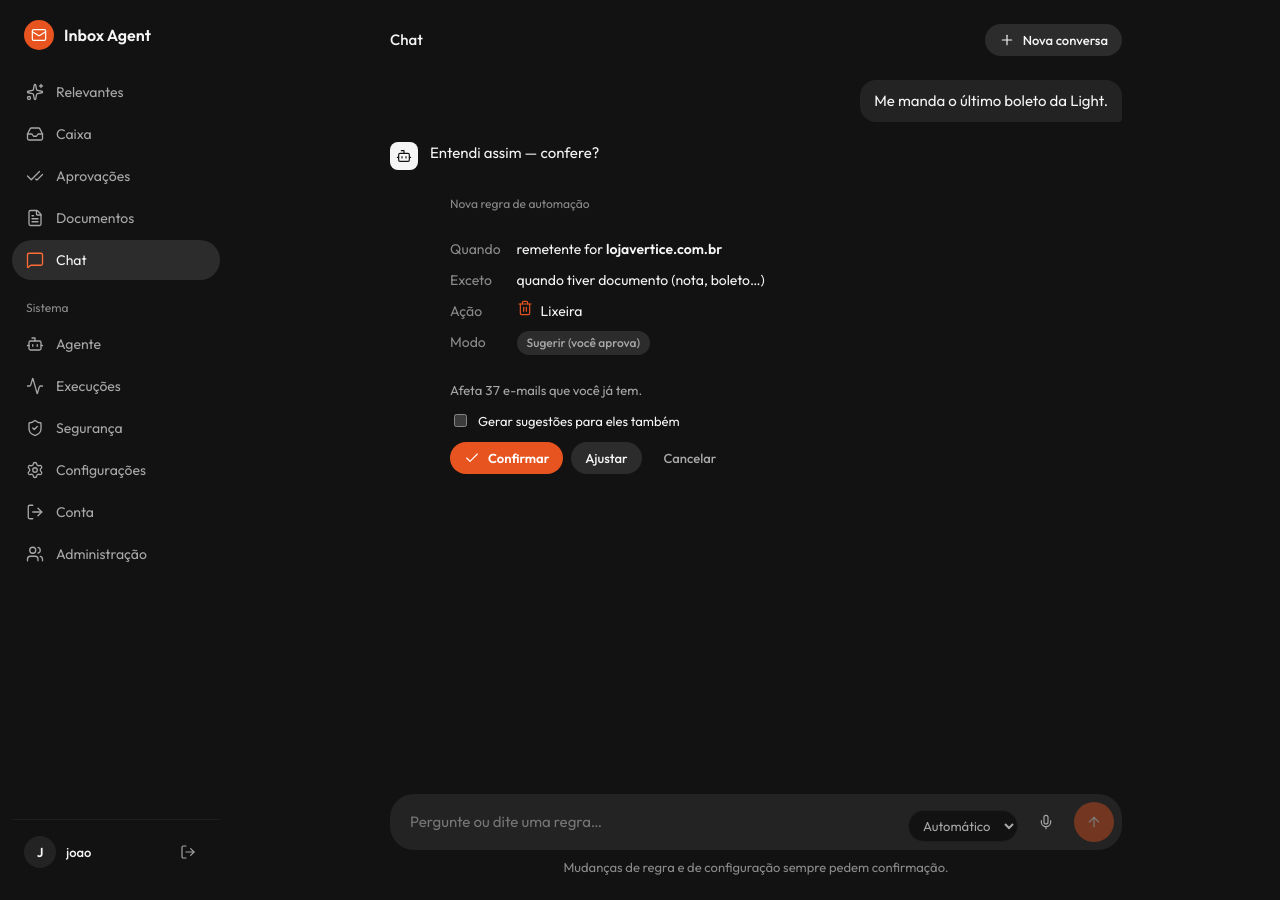
Test: rule_card_confirm_with_existing_suggestions
Expected: the text "lojavertice.com.br" is shown, [606,240,722,258]
Expected: the text "quando tiver documento (nota, boleto…)" is shown, [517,271,765,289]
Click the checkbox labelled "Gerar sugestões para eles também".
click(460, 420)  # box [454,414,467,427]
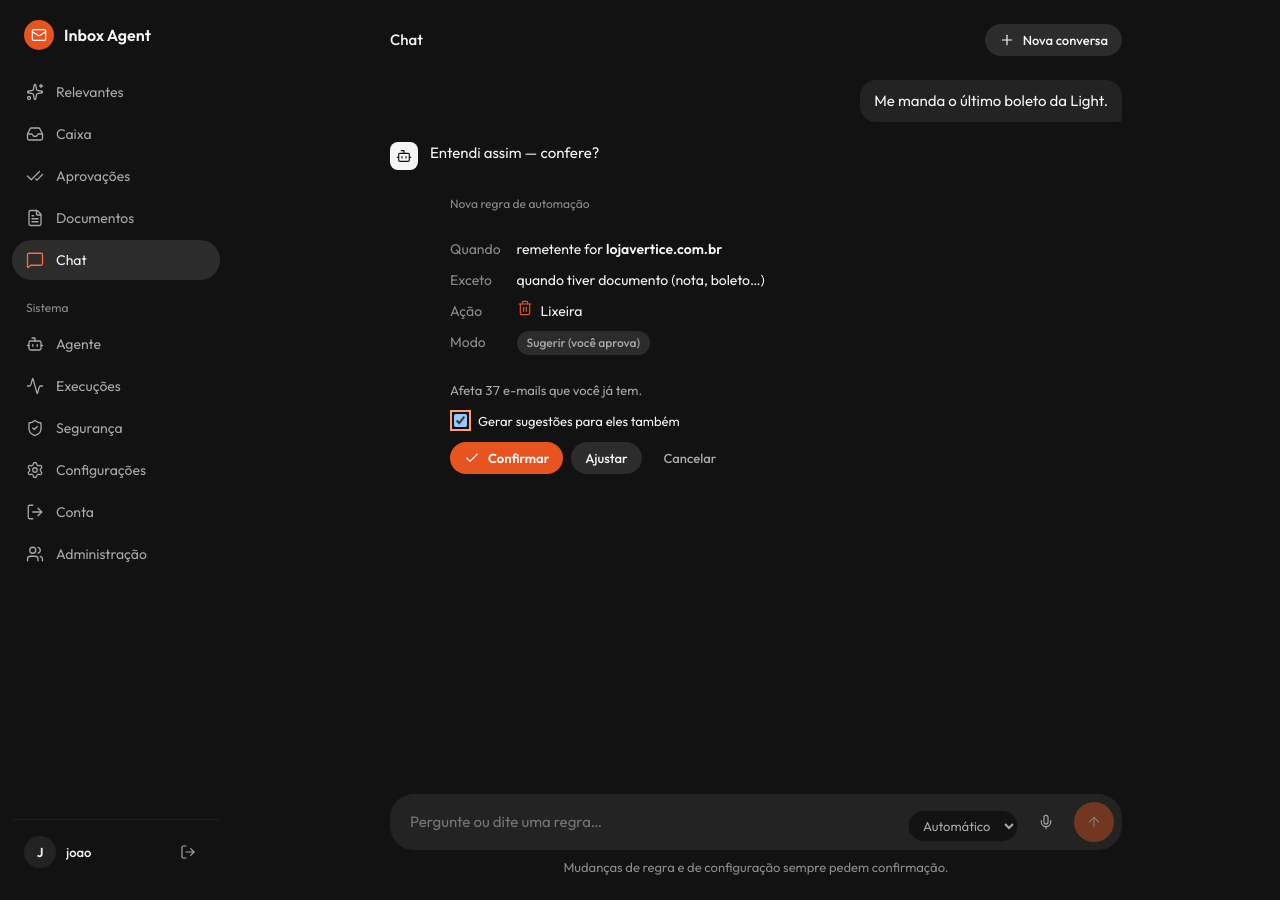
Click the button "Confirmar".
click(507, 458)  # box [450,442,563,474]
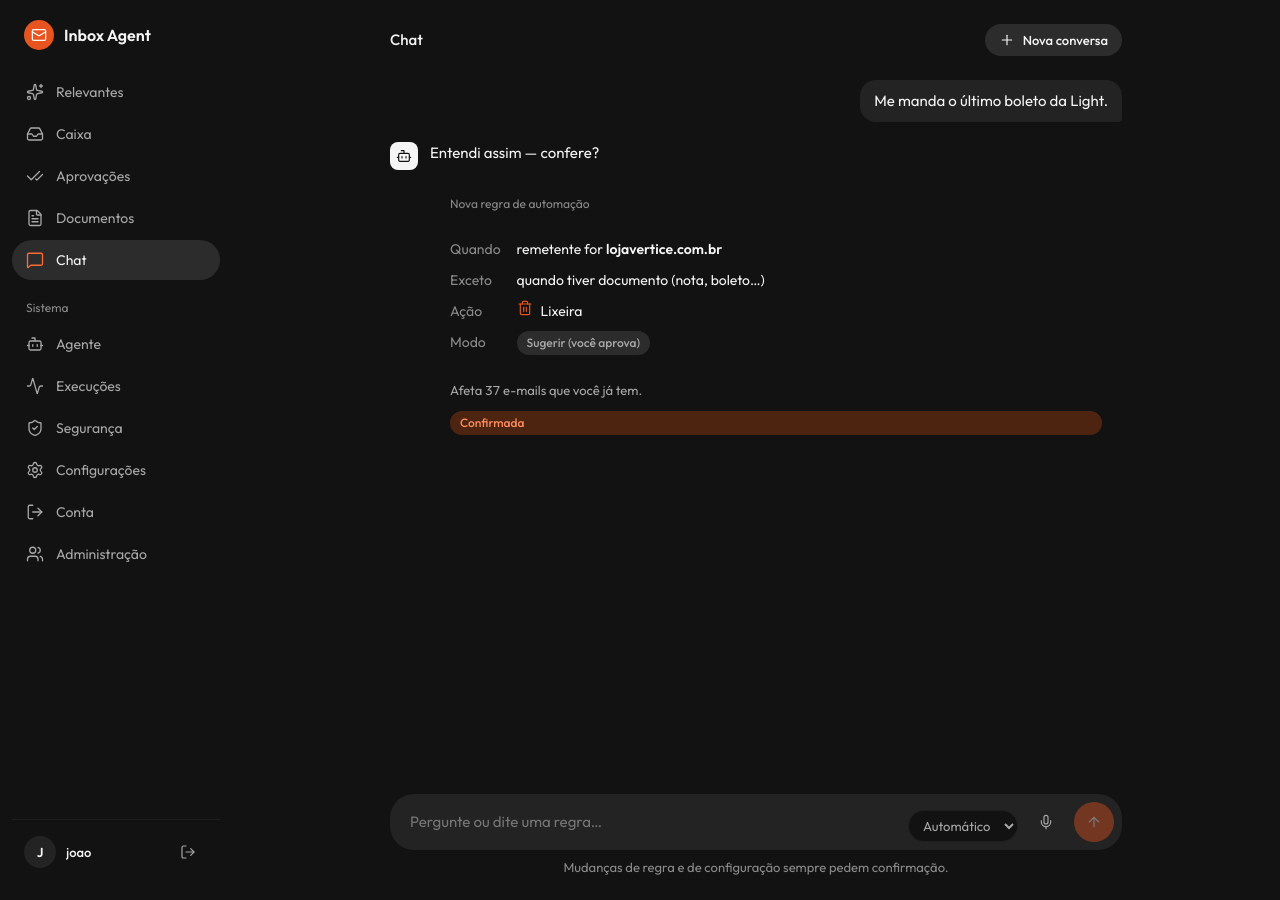
Expected: the text "Confirmada" is shown, [450,411,1102,435]
Expected: the button "Confirmar" is gone
